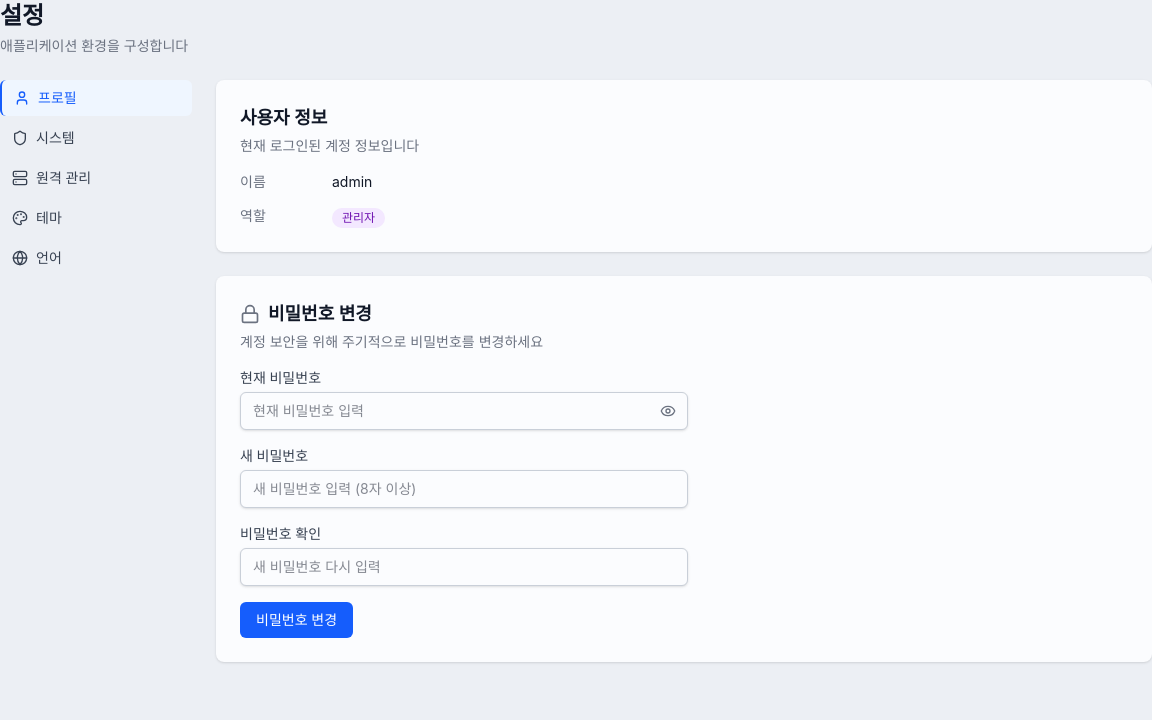
Test: SettingsPage 시스템 탭 — 시스템 정보 카드 › 시스템 탭 활성화 시 인스턴스 정보 / 런타임 메트릭 카드를 렌더한다
시스템 탭으로 전환한다.
Click the button "시스템" at (96, 138), box x1=0 y1=120 x2=192 y2=156
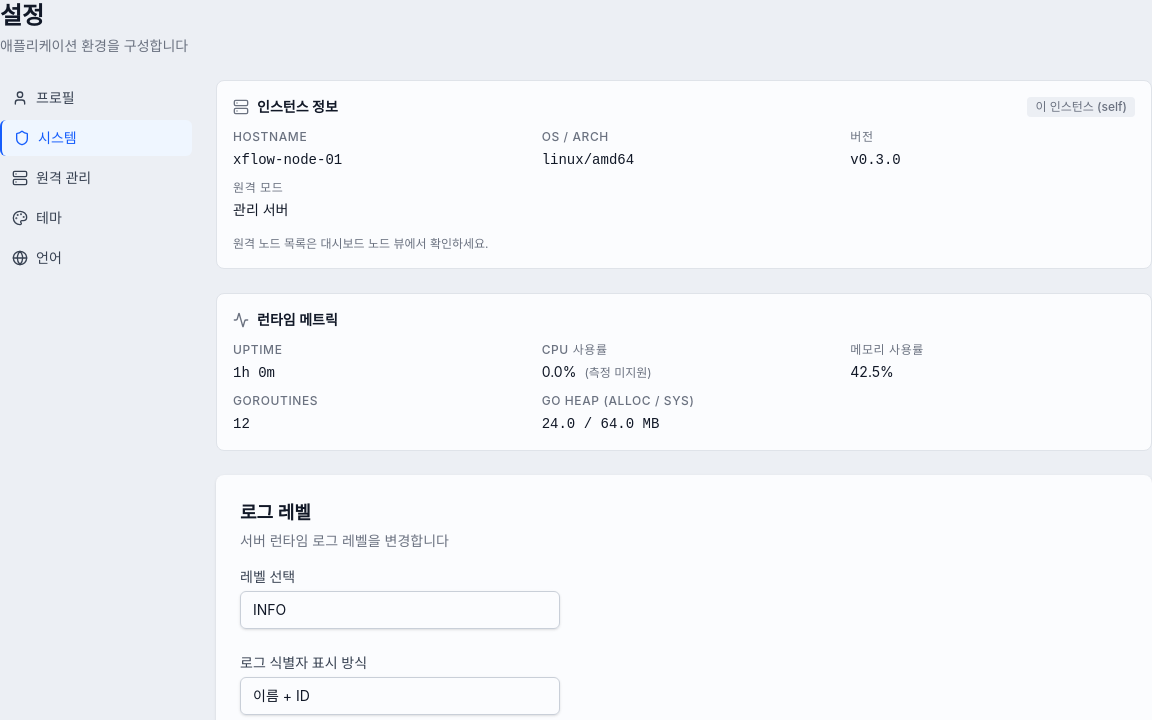
Now the heading "인스턴스 정보" is shown, box x1=257 y1=97 x2=338 y2=117
Now the heading "런타임 메트릭" is shown, box x1=257 y1=310 x2=338 y2=330
